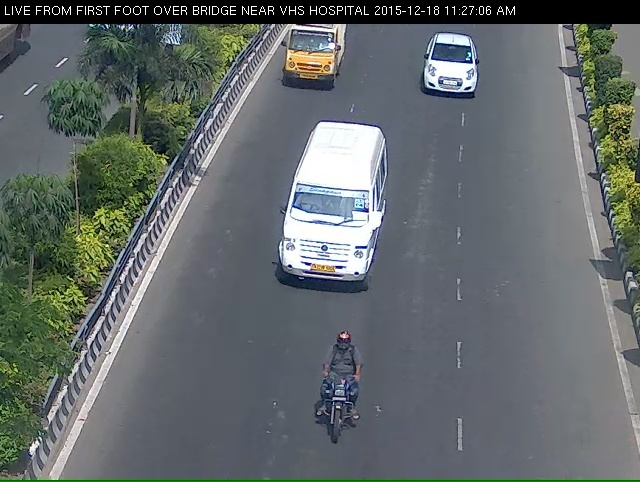Auto: (273, 21, 344, 94)
Bus: (271, 126, 382, 307)
Car: (419, 39, 480, 107)
Person: (307, 355, 374, 475)
